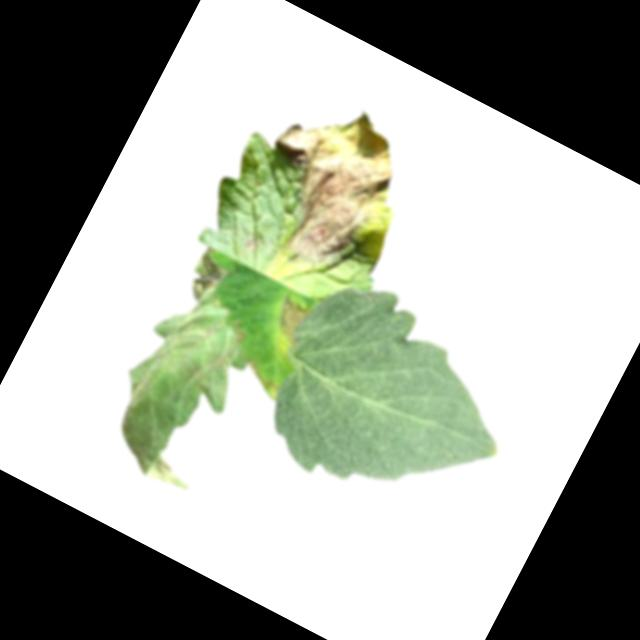Late_blight: (229, 79, 435, 296), (86, 276, 273, 496), (178, 244, 233, 306), (266, 295, 317, 351), (242, 231, 266, 257)
